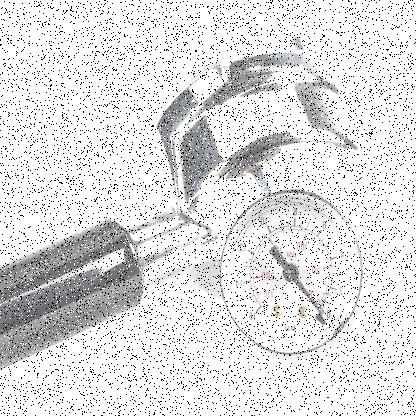needle: (293, 277, 323, 316)
